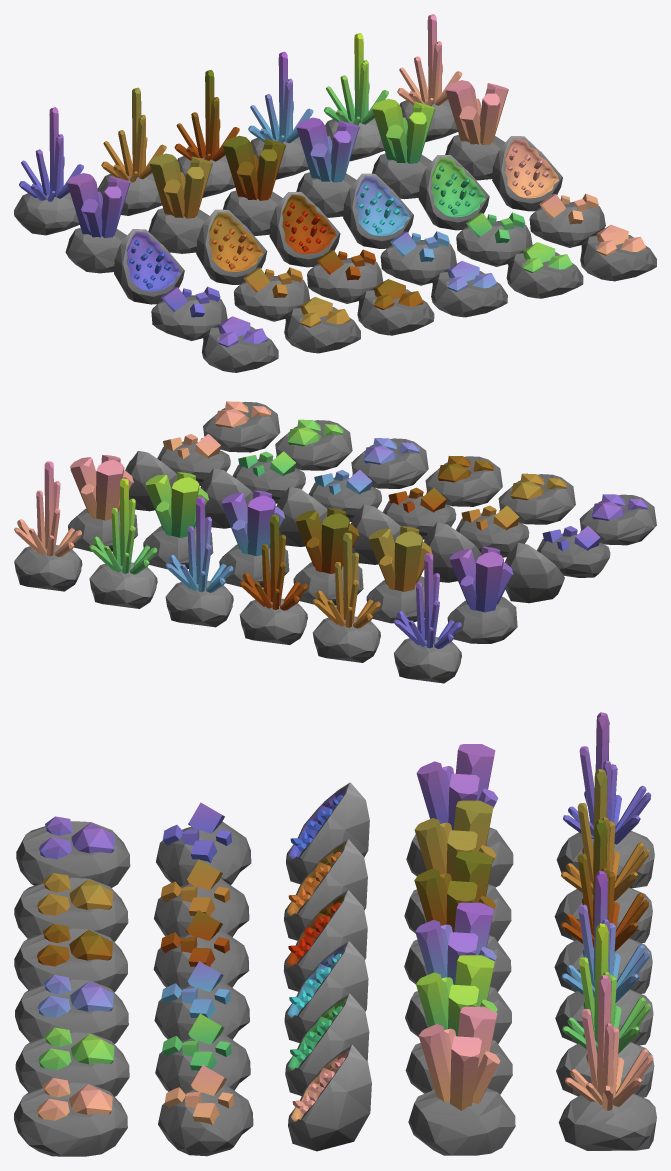
Rendered from Cave Minerals by SimplePolygon - l51xGk3wbv.glb.
3 renders of one model, top to bottom at view 1: azimuth 30°, elevation 25°; view 2: azimuth 150°, elevation 25°; view 3: azimuth 270°, elevation 25°, orthographic. The views are drawn at different scales.
Visible parts, largest first — view 1: crystal_basalt_green.040, crystal_basalt_green.010, crystal_basalt_green.031, crystal_basalt_green.036, crystal_basalt_green.027, crystal_basalt_green.018, crystal_basalt_green.042, crystal_basalt_green.014, crystal_basalt_green.023, crystal_basalt_green.044, crystal_basalt_green.020, crystal_basalt_green.038 (+18 smaller); view 2: crystal_basalt_green.040, crystal_basalt_green.013, crystal_basalt_green.021, crystal_basalt_green.042, crystal_basalt_green.007, crystal_basalt_green.029, crystal_basalt_green.033, crystal_basalt_green.010, crystal_basalt_green.031, crystal_basalt_green.036, crystal_basalt_green.027, crystal_basalt_green.018 (+18 smaller); view 3: crystal_basalt_green.036, crystal_basalt_green.007, crystal_basalt_green.034, crystal_basalt_green.038, crystal_basalt_green.041, crystal_basalt_green.035, crystal_basalt_green.028, crystal_basalt_green.040, crystal_basalt_green.019, crystal_basalt_green.031, crystal_basalt_green.011, crystal_basalt_green.032 (+18 smaller).
Part boxes in pixels (<box>): crystal_basalt_green.040: <box>65,173,130,273</box>; crystal_basalt_green.010: <box>148,153,212,253</box>; crystal_basalt_green.031: <box>372,99,435,199</box>; crystal_basalt_green.036: <box>445,80,508,180</box>; crystal_basalt_green.027: <box>296,117,359,217</box>; crystal_basalt_green.018: <box>223,135,286,235</box>; crystal_basalt_green.042: <box>14,107,83,235</box>; crystal_basalt_green.014: <box>196,209,267,284</box>; crystal_basalt_green.023: <box>343,173,413,248</box>; crystal_basalt_green.044: <box>114,229,184,304</box>; crystal_basalt_green.020: <box>269,192,340,267</box>; crystal_basalt_green.038: <box>492,136,562,211</box>; crystal_basalt_green.040: <box>447,546,517,643</box>; crystal_basalt_green.013: <box>312,532,380,662</box>; crystal_basalt_green.021: <box>239,514,307,644</box>; crystal_basalt_green.042: <box>393,553,461,683</box>; crystal_basalt_green.007: <box>14,461,82,591</box>; crystal_basalt_green.029: <box>165,497,233,627</box>; crystal_basalt_green.033: <box>89,478,157,608</box>; crystal_basalt_green.010: <box>366,526,432,623</box>; crystal_basalt_green.031: <box>143,472,213,569</box>; crystal_basalt_green.036: <box>68,455,137,551</box>; crystal_basalt_green.027: <box>219,490,289,587</box>; crystal_basalt_green.018: <box>293,508,363,605</box>; crystal_basalt_green.036: <box>408,1006,515,1155</box>; crystal_basalt_green.007: <box>558,975,656,1150</box>; crystal_basalt_green.034: <box>14,1078,127,1156</box>; crystal_basalt_green.038: <box>288,1045,371,1151</box>; crystal_basalt_green.041: <box>16,816,130,887</box>; crystal_basalt_green.035: <box>158,1065,253,1156</box>; crystal_basalt_green.028: <box>15,975,128,1043</box>; crystal_basalt_green.040: <box>406,744,513,887</box>; crystal_basalt_green.019: <box>14,923,127,992</box>; crystal_basalt_green.031: <box>405,955,512,1094</box>; crystal_basalt_green.011: <box>14,873,128,941</box>; crystal_basalt_green.032: <box>15,1027,129,1096</box>.
Size of the model in its own units: 4.09 by 1.05 by 3.6.
Materials: 1 (1 with a texture image).
